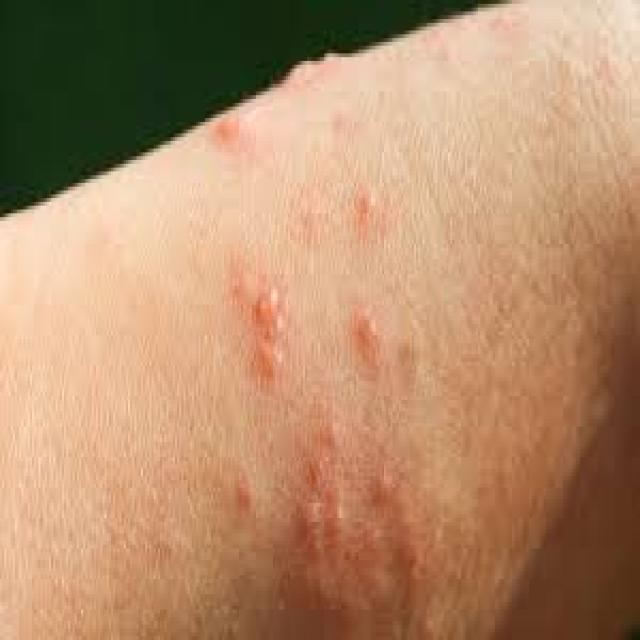Shingles: (227, 182, 430, 610)
